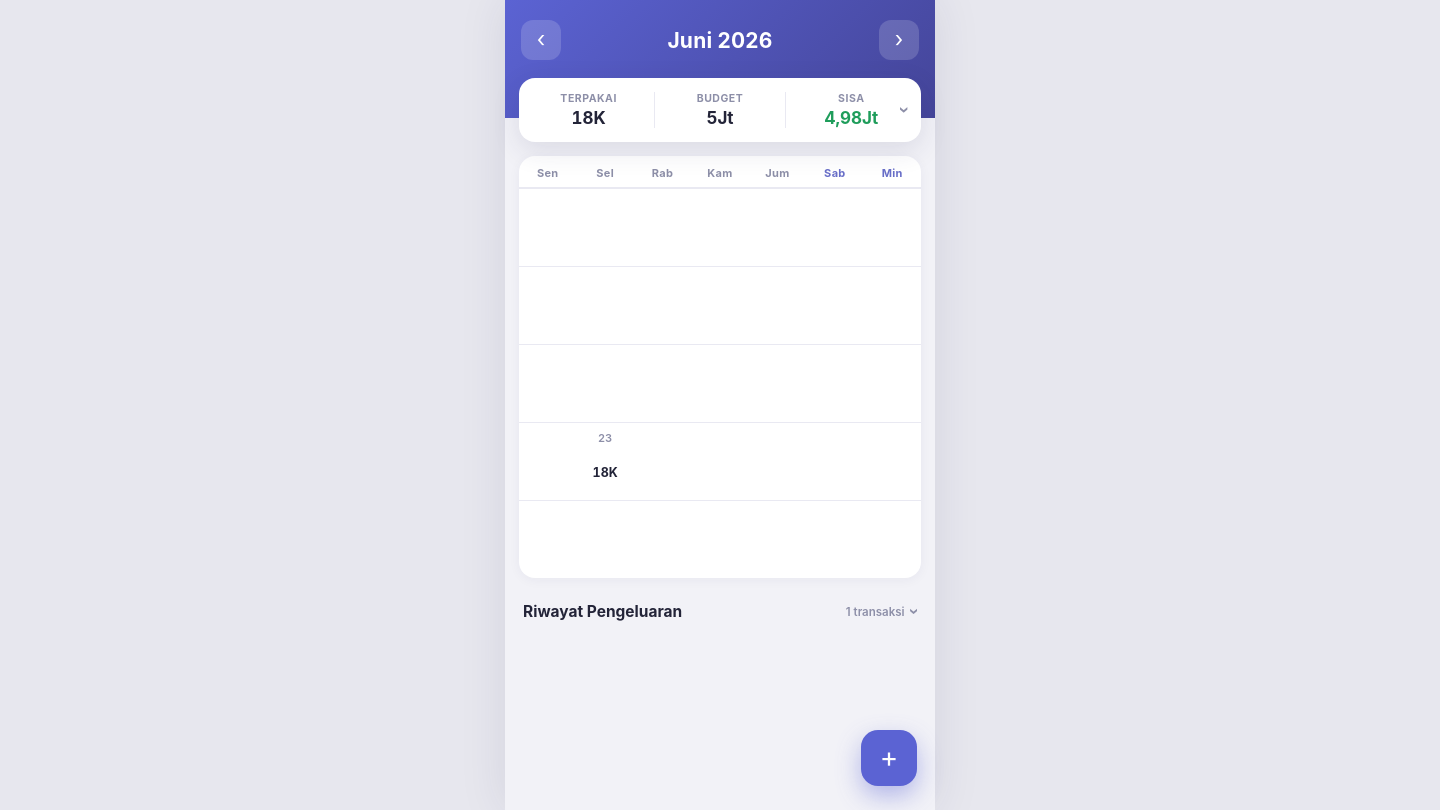
Test: App — renders the server dashboard › opens the Fleksibel sheet from the envelope card and shows the rollover
Expected: the text "Terpakai" is shown, x1=560 y1=92 x2=617 y2=105
Click the button "Terpakai 18K Budget 5Jt Sisa 4,98Jt ›": (720,110) x1=519 y1=78 x2=921 y2=142
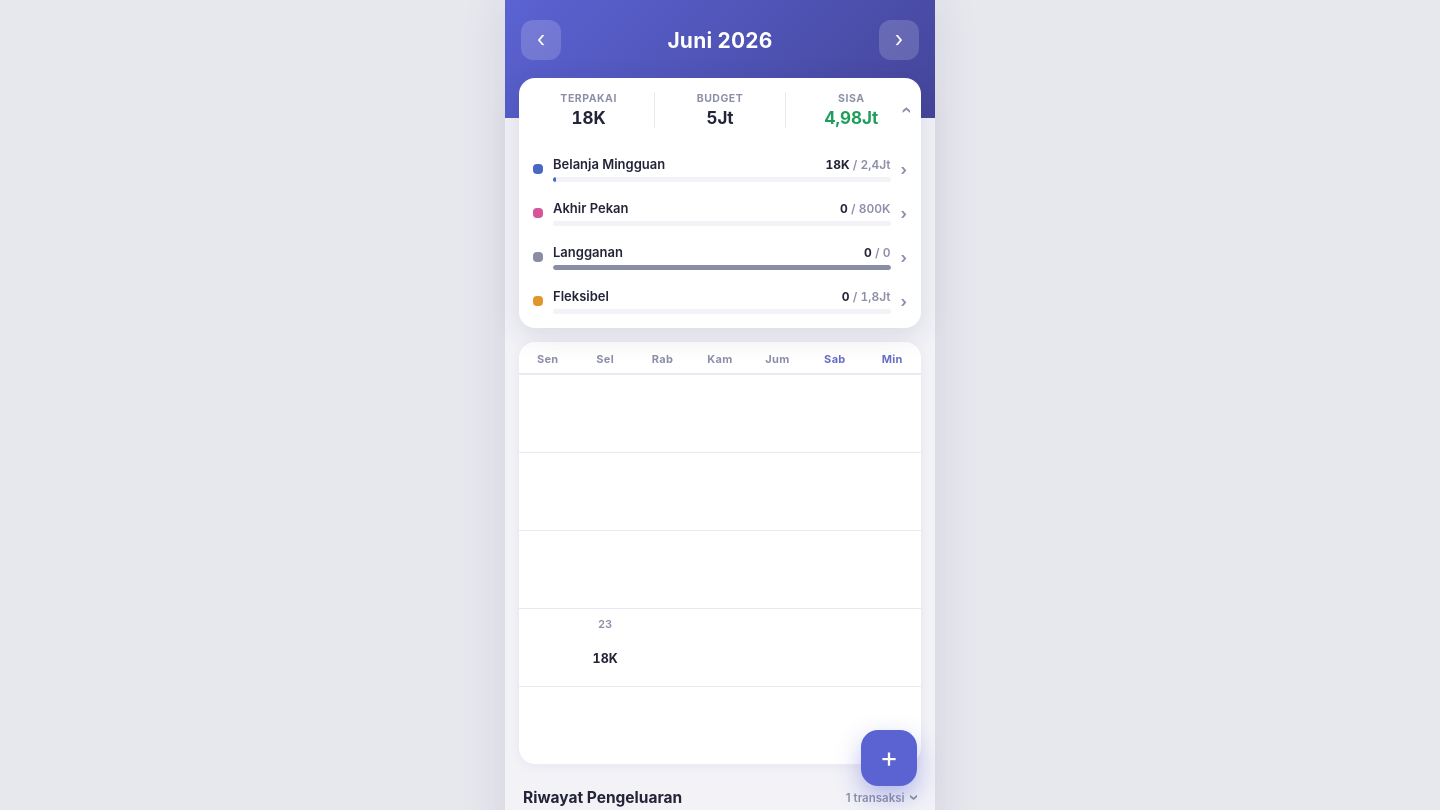
Click the text "Fleksibel": (581,296) x1=553 y1=288 x2=609 y2=304
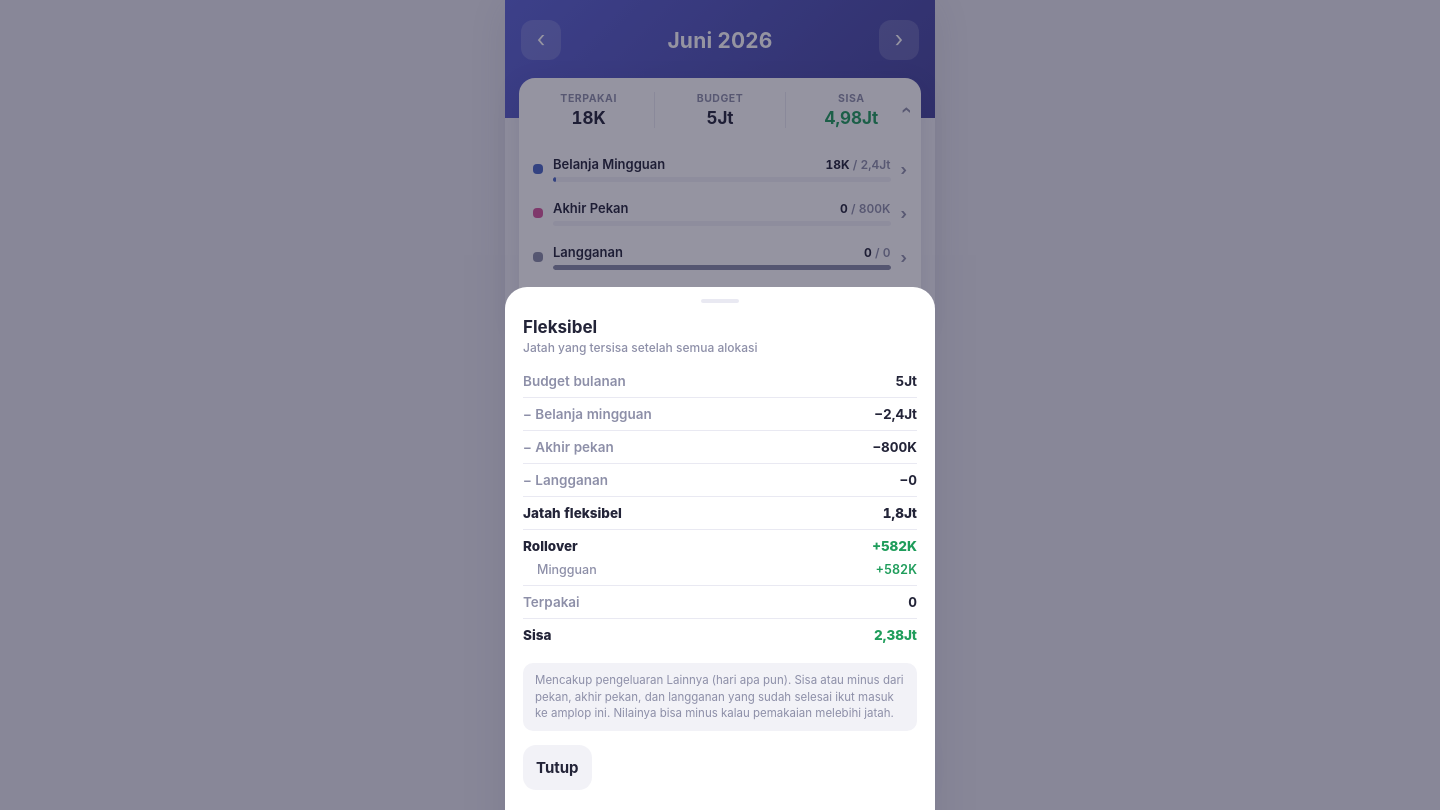
Expected: the text "Rollover" is shown, x1=523 y1=538 x2=578 y2=554
Expected: the text "+582K" is shown 2 times, x1=872 y1=538 x2=917 y2=554; x1=876 y1=562 x2=917 y2=577
Expected: the text "Mingguan" is shown, x1=537 y1=562 x2=597 y2=577
